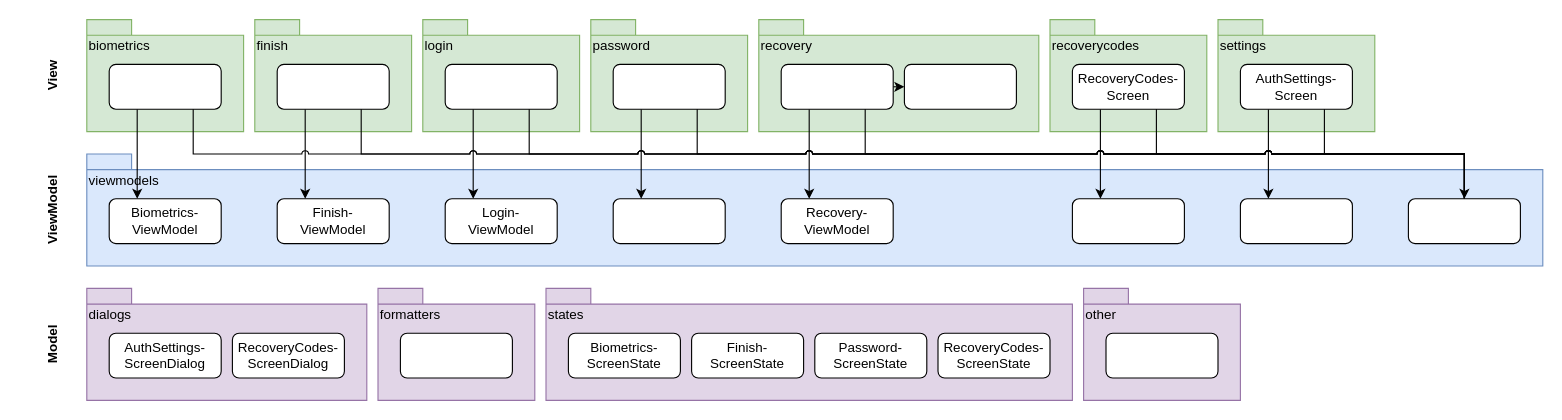
Some shapes in this 1562 by 420 pixel diagram are drawn without their labels. The shapes that lost their labels are listed below. From the top down, each one's centre as x and y in pixels, then its label:
At (x=164, y=86): "BiometricsScreen".
At (x=332, y=86): "FinishScreen".
At (x=500, y=86): "LoginScreen".
At (x=668, y=86): "PasswordScreen".
At (x=836, y=86): "RecoveryScreen".
At (x=959, y=86): "RecoveryCodes-VisualTransformation".
At (x=668, y=221): "Password- ViewModel".
At (x=1127, y=221): "RecoveryCodes-ViewModel".
At (x=1295, y=221): "AuthSettings-ViewModel".
At (x=1463, y=221): "SetupFlow-SharedViewModel".
At (x=455, y=355): "RecoveryCodes-Formatter".
At (x=1161, y=355): "Auth-Recommendation".
